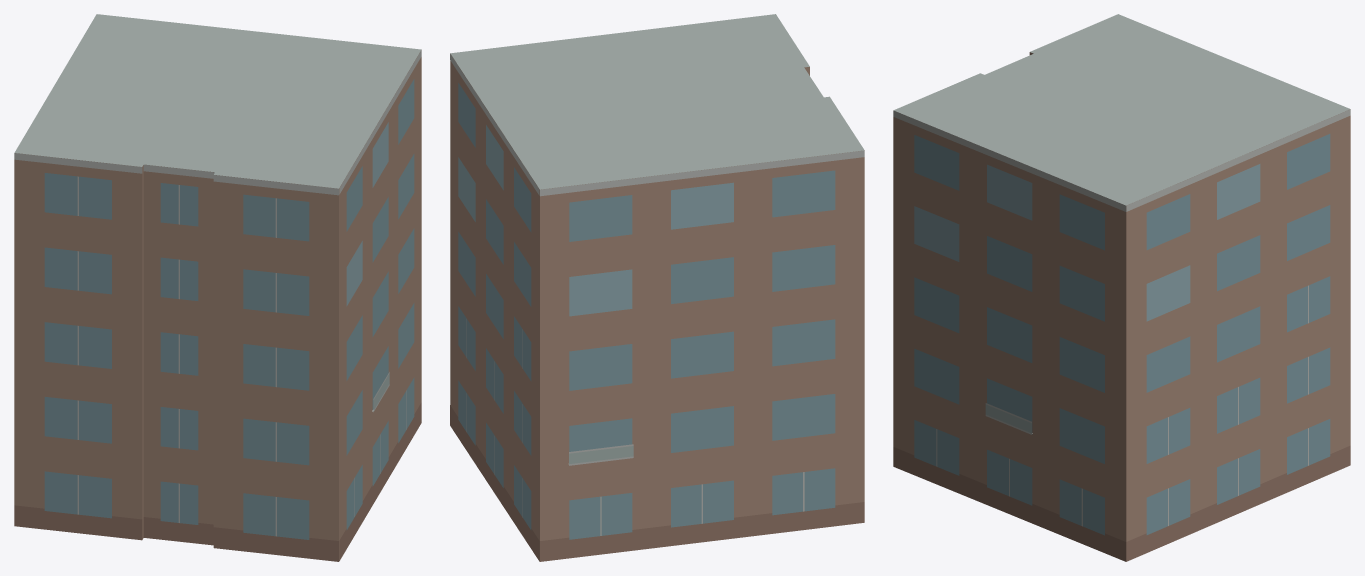
The model's file is survey-upis-33038951.glb.
3 renders of one model, left to right at view 1: azimuth 30°, elevation 25°; view 2: azimuth 150°, elevation 25°; view 3: azimuth 270°, elevation 25°, orthographic. The views are drawn at different scales.
Visible parts, largest first — view 1: survey-upis-33038951.tmp; view 2: survey-upis-33038951.tmp; view 3: survey-upis-33038951.tmp.
Boxes of the visible parts, x1,y1,x2,y2 form: survey-upis-33038951.tmp: (14,14,421,561); survey-upis-33038951.tmp: (450,14,864,561); survey-upis-33038951.tmp: (893,14,1350,561).
Bounding box in the file's own units: 15.58 × 13.5 × 15.71.
